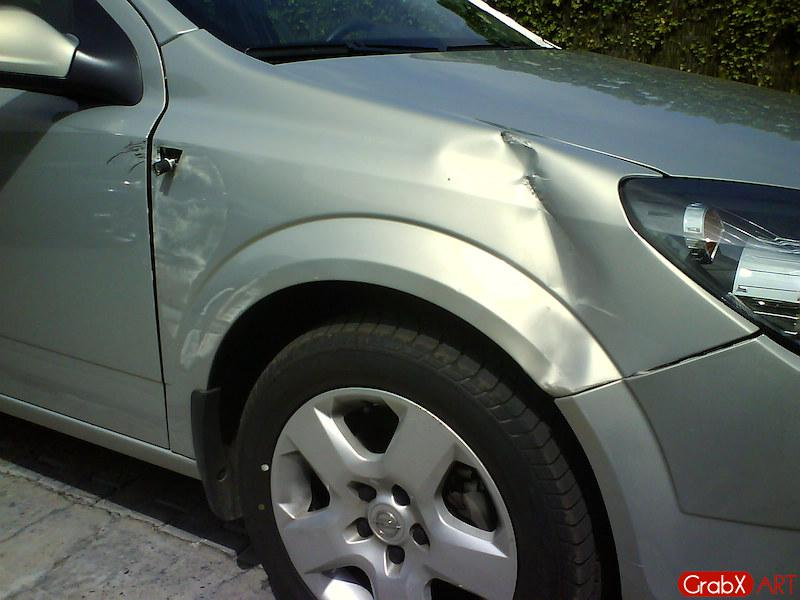fender-dent: (303, 113, 661, 346)
